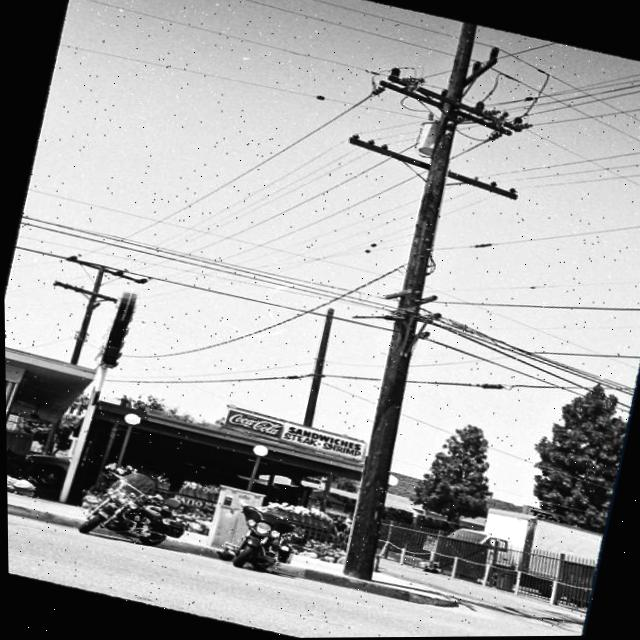motorcycle: (70, 449, 205, 557), (225, 497, 303, 577)
